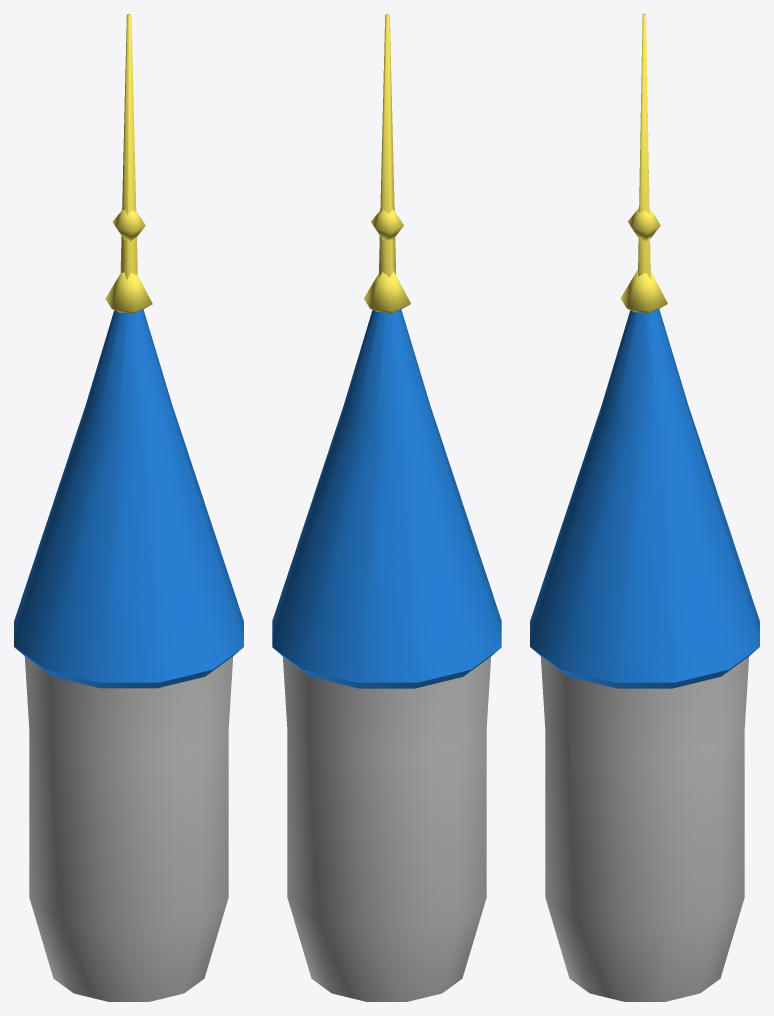
File: castle_tower_001.gltf
The picture shows the model from 3 angles, left to right: view 1: azimuth 30°, elevation 25°; view 2: azimuth 150°, elevation 25°; view 3: azimuth 270°, elevation 25°; orthographic projection.
Parts seen in each view (by area): view 1: castle_tower_001; view 2: castle_tower_001; view 3: castle_tower_001.
Part boxes in pixels (x1,y1,x2,y2): castle_tower_001: [14, 14, 243, 1001]; castle_tower_001: [272, 14, 501, 1001]; castle_tower_001: [530, 14, 759, 1001].
Bounding box in the file's own units: 1.07 × 4.9 × 1.07.
Materials: 1 (1 with a texture image).
